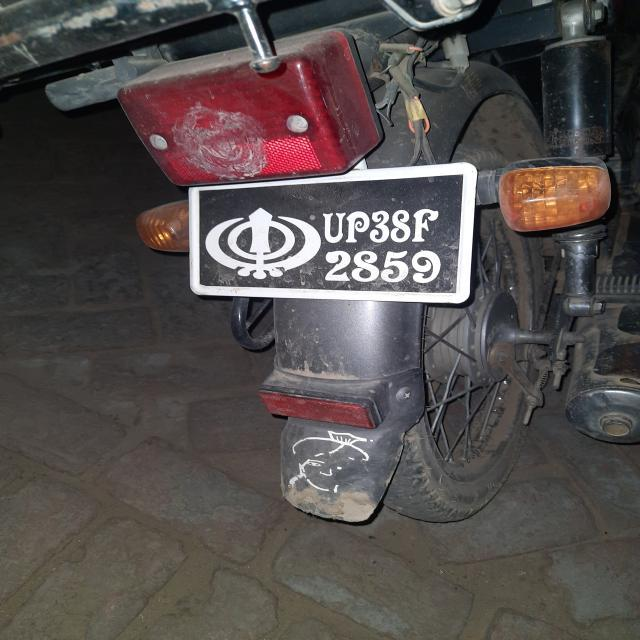plate: (187, 161, 478, 304)
